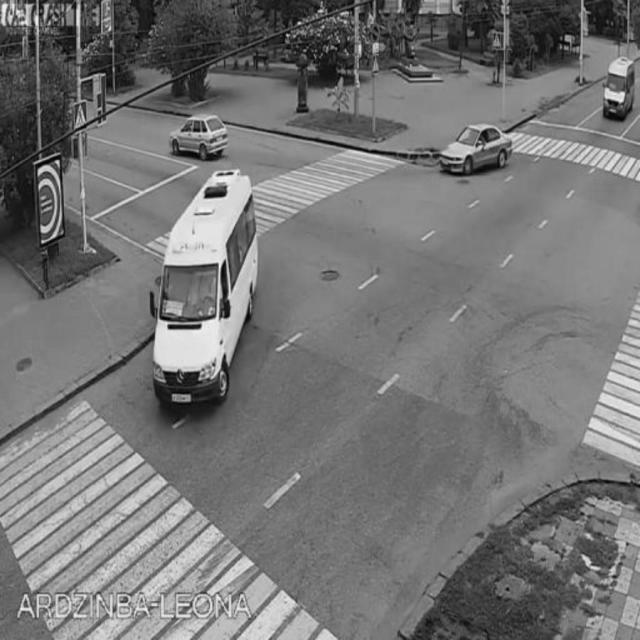vehicle: (158, 170, 256, 411), (440, 122, 511, 179), (171, 112, 232, 162), (603, 53, 633, 129)
